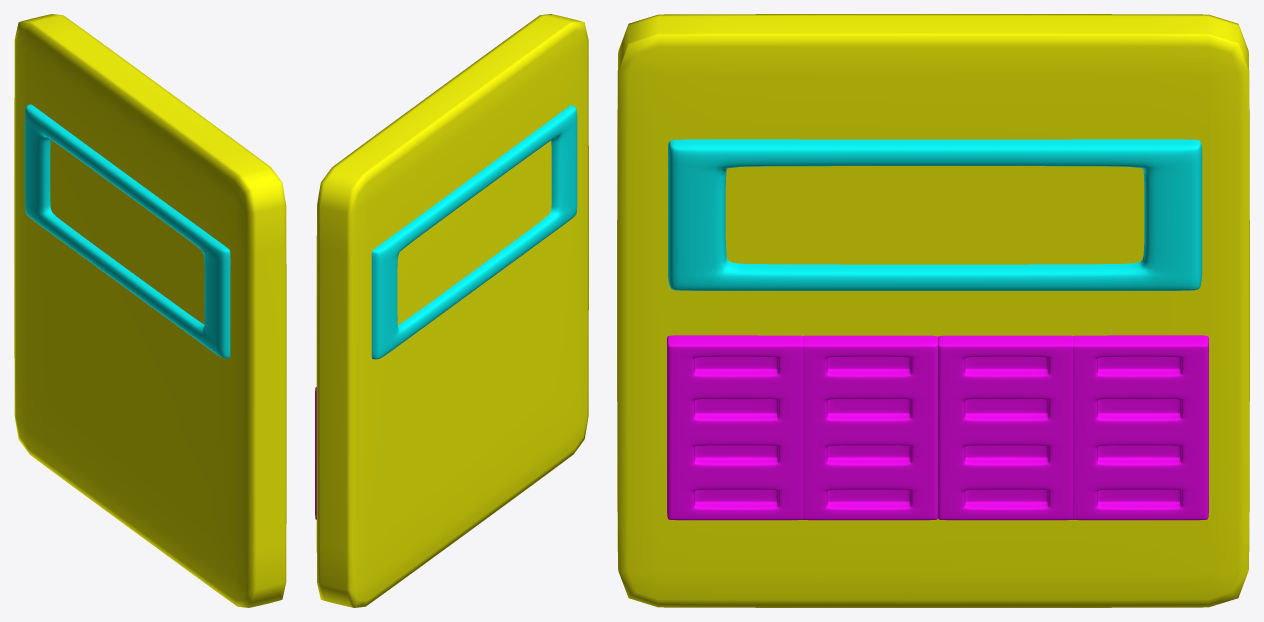
3 renders of one model, left to right at view 1: azimuth 30°, elevation 25°; view 2: azimuth 150°, elevation 25°; view 3: azimuth 270°, elevation 25°, orthographic. The views are drawn at different scales.
Visible parts, largest first — view 1: polySurface927; view 2: polySurface927; view 3: polySurface927.
Part boxes in pixels (left/top/right/bottom): polySurface927: left=14, top=14, right=286, bottom=607; polySurface927: left=315, top=14, right=588, bottom=607; polySurface927: left=617, top=14, right=1249, bottom=607.
Size of the model in its own units: 0.1529 by 0.9994 by 0.9994.
